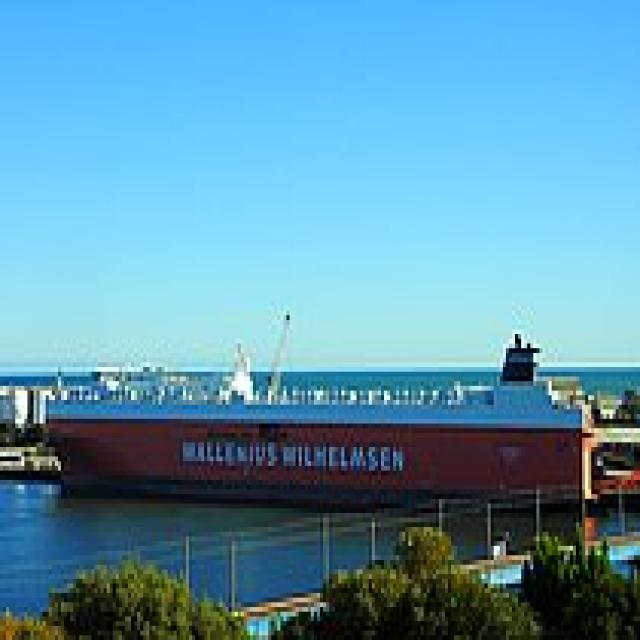Carrier: (40, 325, 597, 508)
